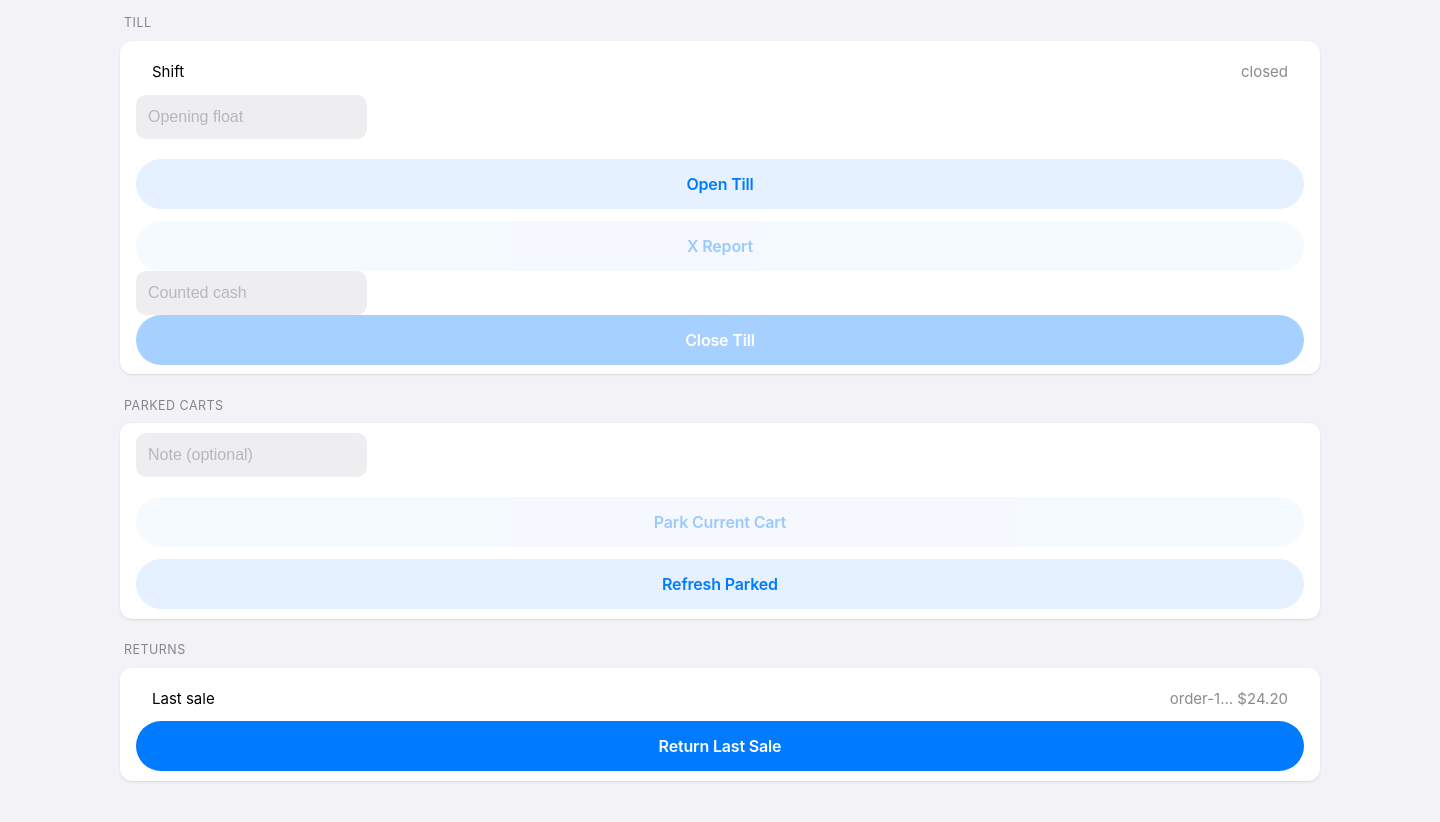
it: StoreOpsPanel returns › returns every line of the last sale against the original order and refunds in cash
Click the button "Return Last Sale": (720, 746) [136,721,1304,771]
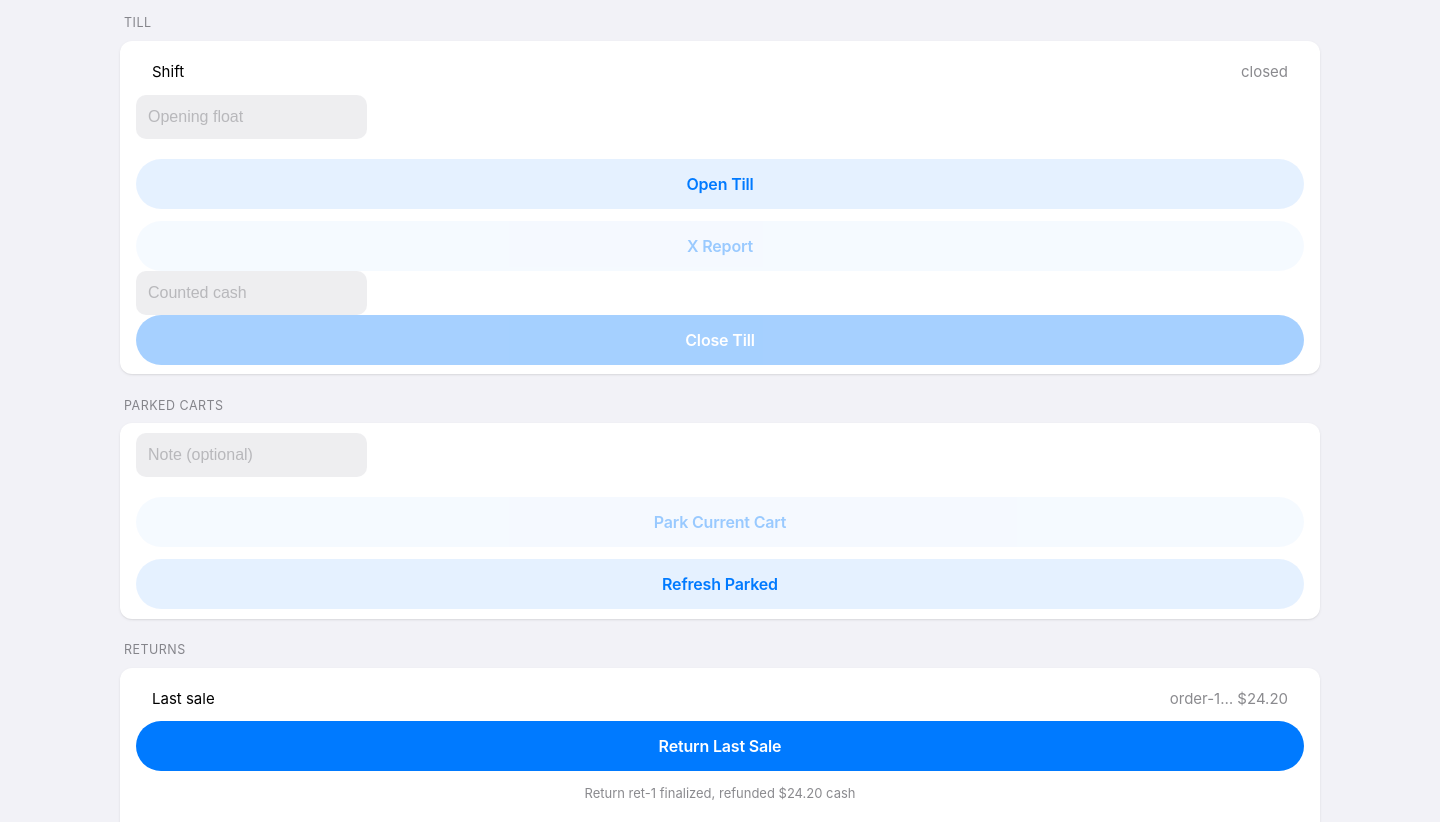
Result: the text "Return ret-1 finalized, refunded $24.20 cash" is shown at [584,785,856,801]
